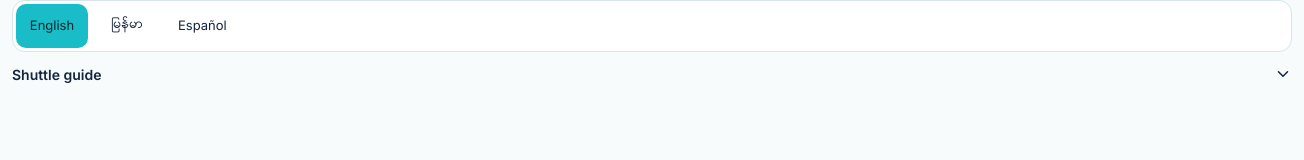
Test: language preference › translates the boarding guide and keeps its accessible section name and source link
Click the button "မြန်မာ". click: (127,26)
box: x1=91 y1=4 x2=163 y2=48
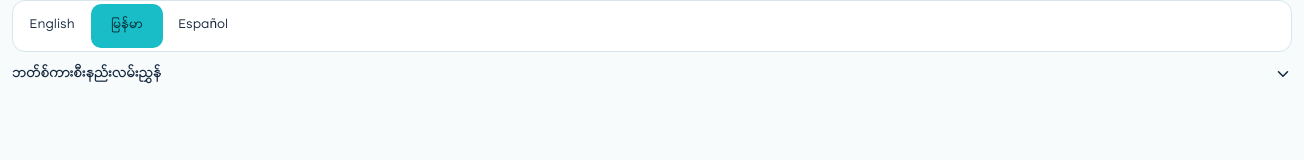
Now the element showing "ဘတ်စ်ကားစီးနည်းလမ်းညွှန်" is shown, box x1=12 y1=64 x2=1292 y2=83
